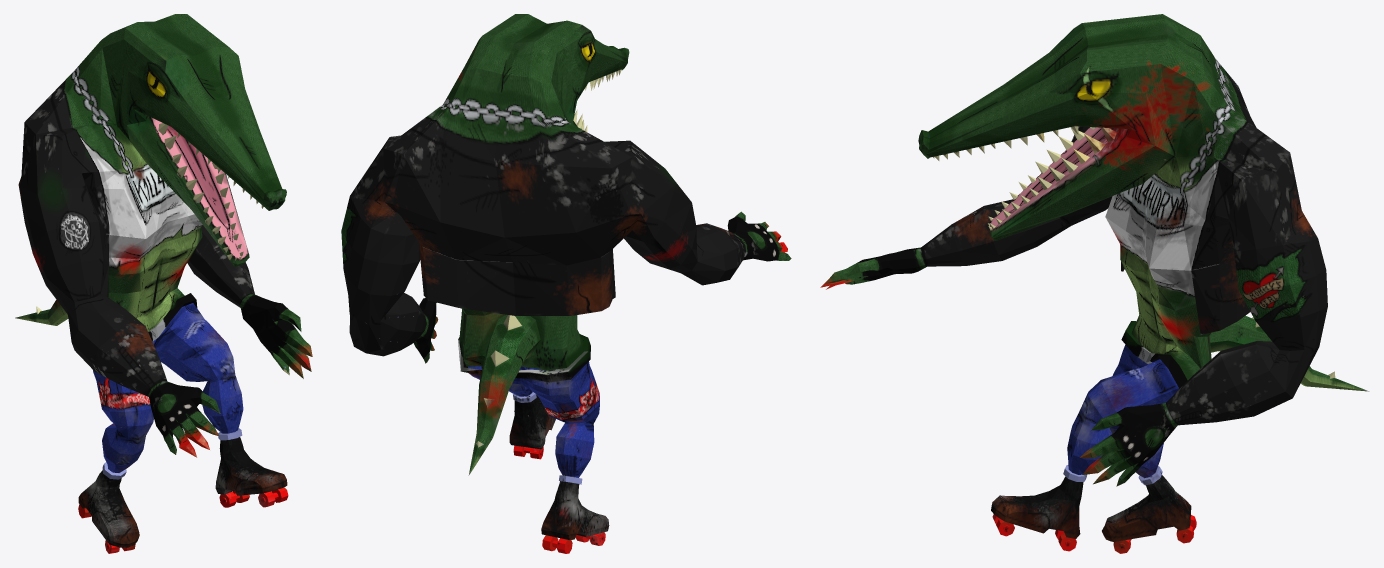
File: cocodrilaBonesSelect_000005.obj
The picture shows the model from 3 angles, left to right: view 1: azimuth 30°, elevation 25°; view 2: azimuth 150°, elevation 25°; view 3: azimuth 270°, elevation 25°; orthographic projection. The views are drawn at different scales.
Visible parts, largest first — view 1: Crocodile.002_Cylinder.002; view 2: Crocodile.002_Cylinder.002; view 3: Crocodile.002_Cylinder.002.
Part boxes in pixels (x1,y1,x2,y2): Crocodile.002_Cylinder.002: [15, 14, 312, 553]; Crocodile.002_Cylinder.002: [341, 14, 791, 553]; Crocodile.002_Cylinder.002: [820, 14, 1369, 553].
Bounding box in the file's own units: 3.61 × 6.52 × 5.93.
